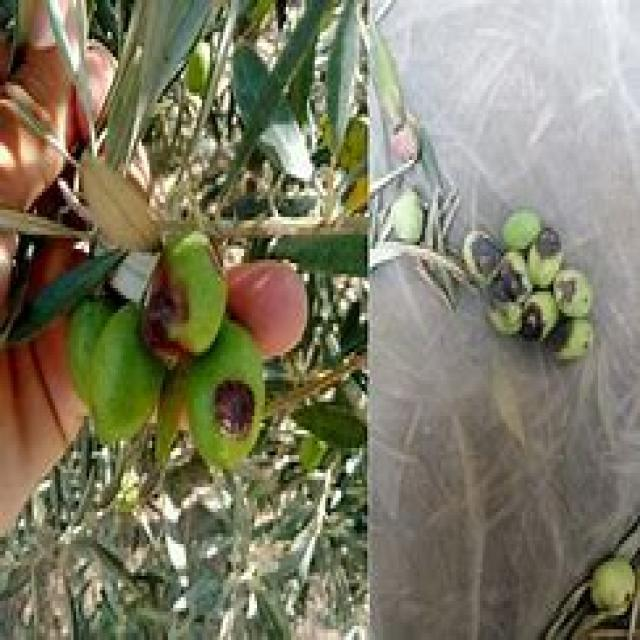Anthracnose: (462, 210, 588, 359), (186, 320, 252, 466), (144, 232, 215, 356)
